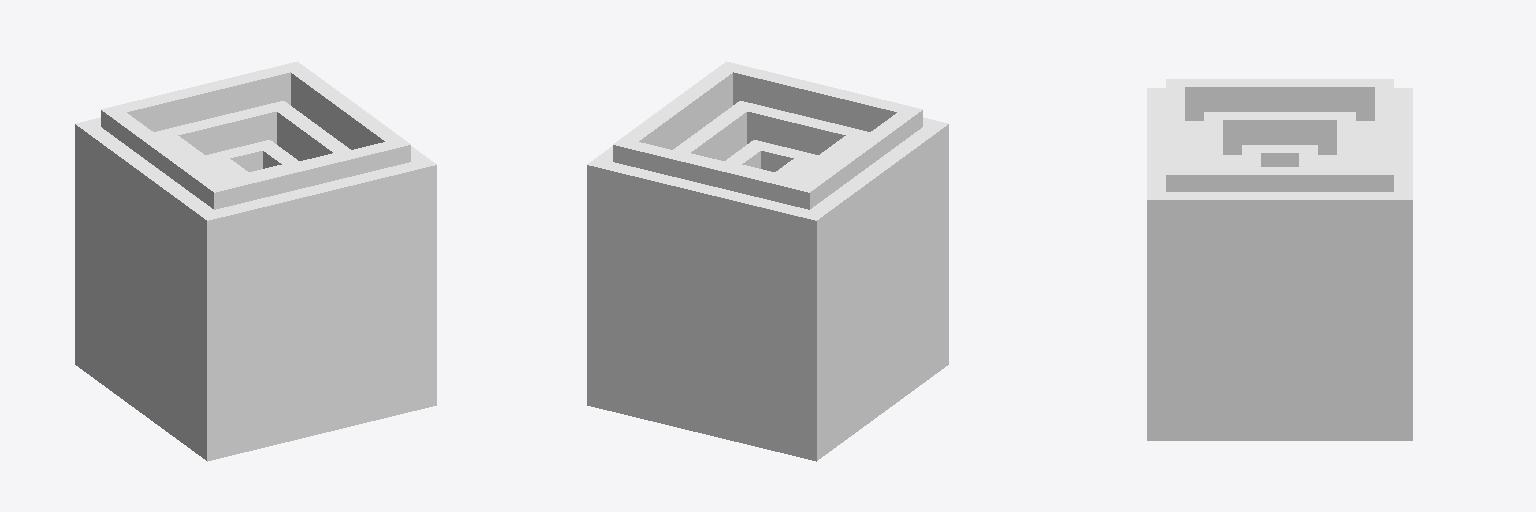
Rendered from LowerGlowingBlock.obj.
3 renders of one model, left to right at view 1: azimuth 30°, elevation 25°; view 2: azimuth 150°, elevation 25°; view 3: azimuth 270°, elevation 25°, orthographic.
Size of the model in its own units: 14 by 15 by 14.